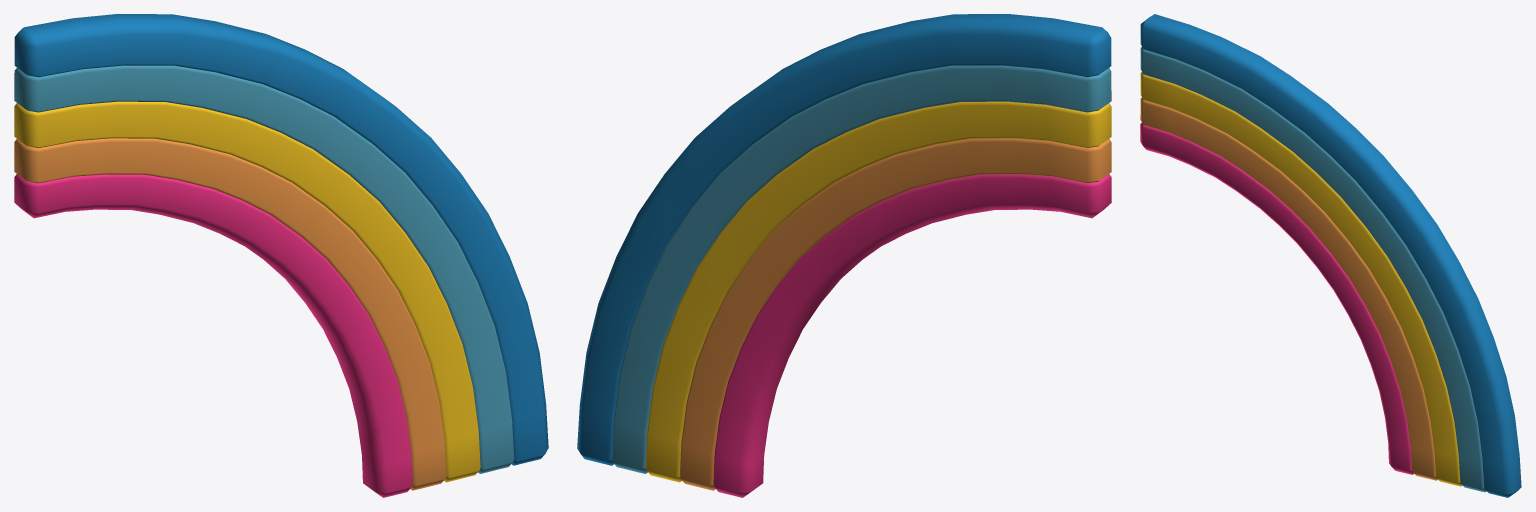
File: Rainbow.fbx
The picture shows the model from 3 angles, left to right: view 1: azimuth 30°, elevation 25°; view 2: azimuth 150°, elevation 25°; view 3: azimuth 330°, elevation 25°; orthographic projection. The views are drawn at different scales.
Visible parts, largest first — view 1: ENV_S04_Rainbow_Module_B_MO1_0; view 2: ENV_S04_Rainbow_Module_B_MO1_0; view 3: ENV_S04_Rainbow_Module_B_MO1_0.
Boxes of the visible parts, x1,y1,x2,y2 form: ENV_S04_Rainbow_Module_B_MO1_0: (14, 14, 548, 497); ENV_S04_Rainbow_Module_B_MO1_0: (577, 14, 1111, 497); ENV_S04_Rainbow_Module_B_MO1_0: (1140, 14, 1521, 497).
Size of the model in its own units: 22.71 by 22.7 by 1.57.
